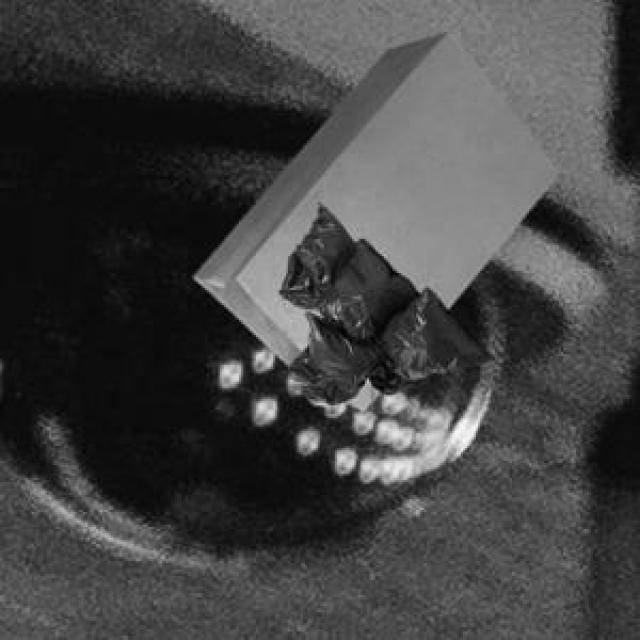miscellaneous trash: (275, 198, 489, 401)
paper: (190, 28, 555, 405)
